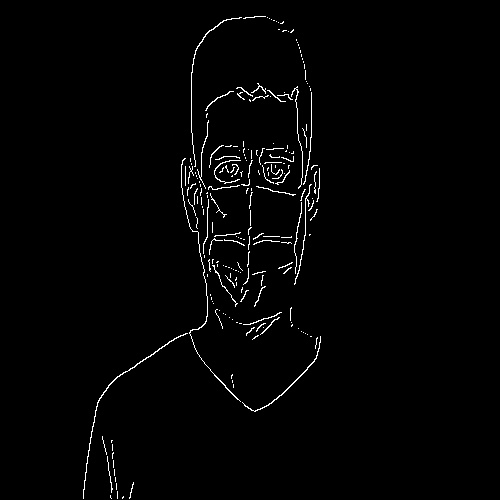mask: (200, 185, 300, 313)
